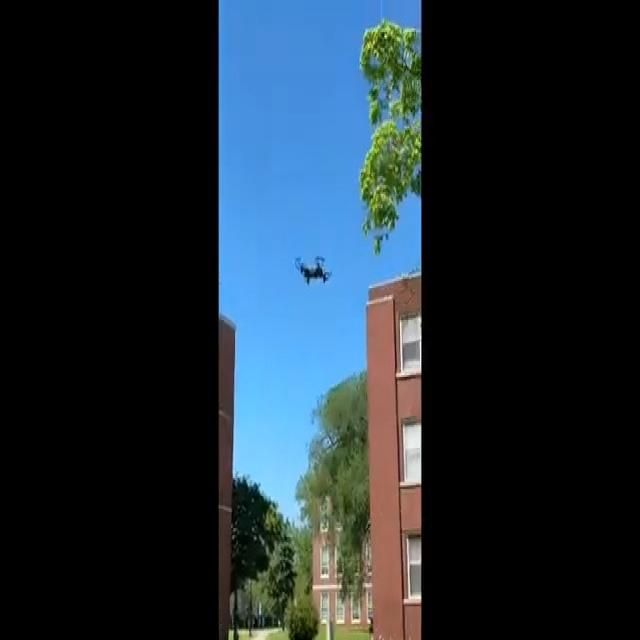drone: (291, 249, 335, 289)
